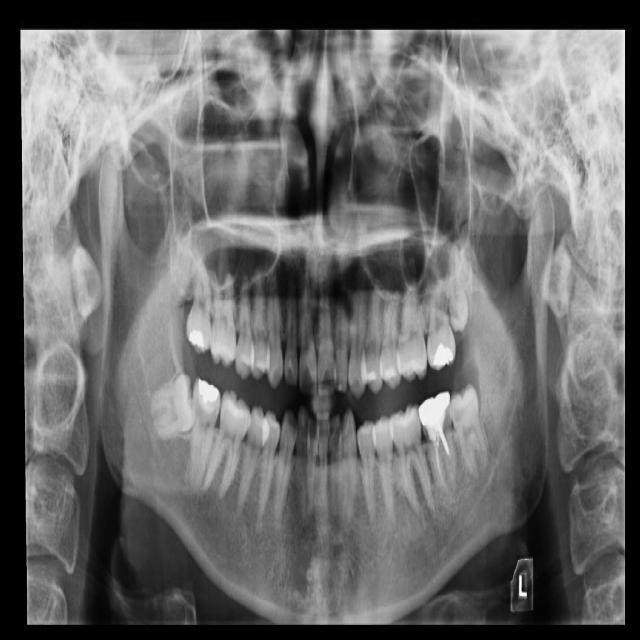52: (414, 391, 460, 442), (182, 376, 231, 422), (422, 325, 459, 373), (185, 306, 212, 355)
73: (425, 430, 463, 497), (561, 500, 570, 518)
BioHorizons Implant: (427, 273, 455, 370)
BioLife Implant: (447, 239, 469, 332)
Biomet 3i Implant: (446, 382, 492, 482)
Blue Sky Bio Implant: (416, 391, 460, 497)
Caries: (185, 254, 212, 355)
Implant: (187, 377, 223, 495)
Keystone Dental Implant: (145, 372, 202, 441)
